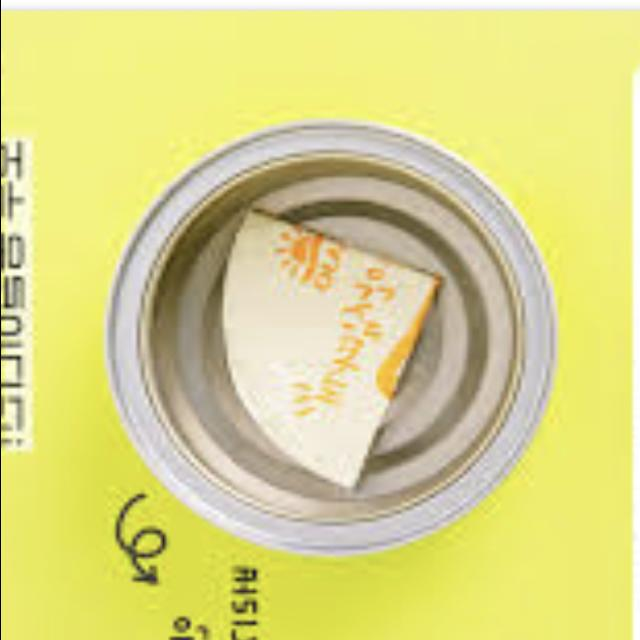can: (82, 110, 564, 565)
